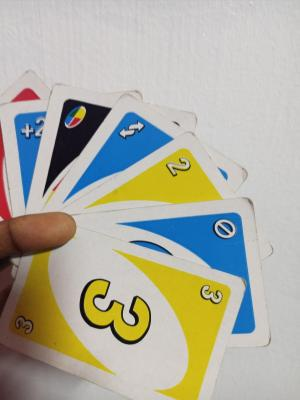num_2: (165, 156, 196, 178)
num_3: (194, 280, 228, 308), (12, 311, 42, 338)
reverse: (116, 117, 148, 141)
skip: (210, 217, 241, 241)
wild: (61, 100, 91, 132)
yellow: (40, 249, 203, 382)
